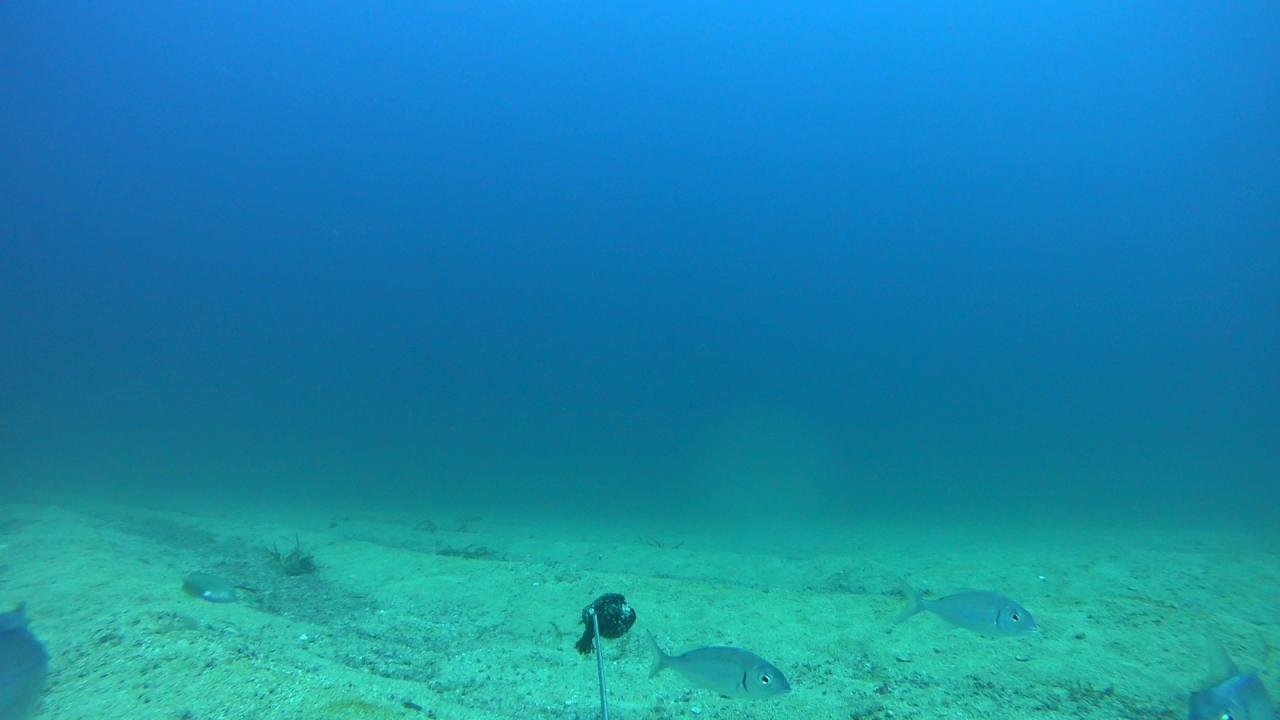pagellus: (643, 630, 790, 699), (892, 575, 1035, 638)
